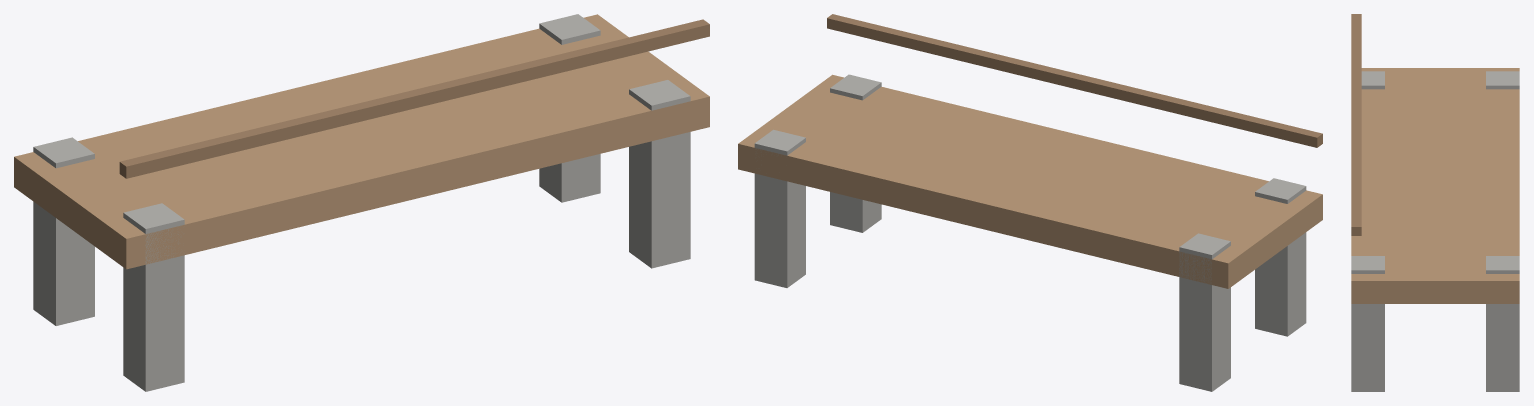
File: puente.glb
The picture shows the model from 3 angles, left to right: view 1: azimuth 30°, elevation 25°; view 2: azimuth 150°, elevation 25°; view 3: azimuth 270°, elevation 25°; orthographic projection. The views are drawn at different scales.
Parts seen in each view (by area): view 1: puente; view 2: puente; view 3: puente.
Part boxes in pixels (box(x1,y1,x2,y2)): puente: box(14, 14, 709, 391); puente: box(738, 14, 1322, 391); puente: box(1351, 14, 1519, 391).
Size of the model in its own units: 3 by 1.13 by 1.
